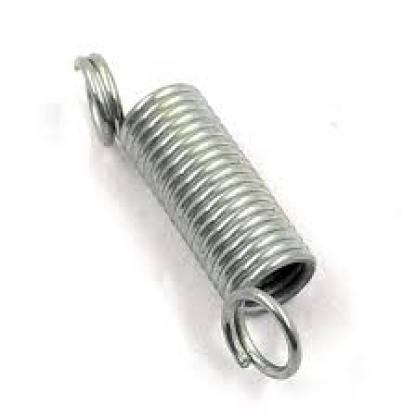FOD: (59, 42, 329, 386)
